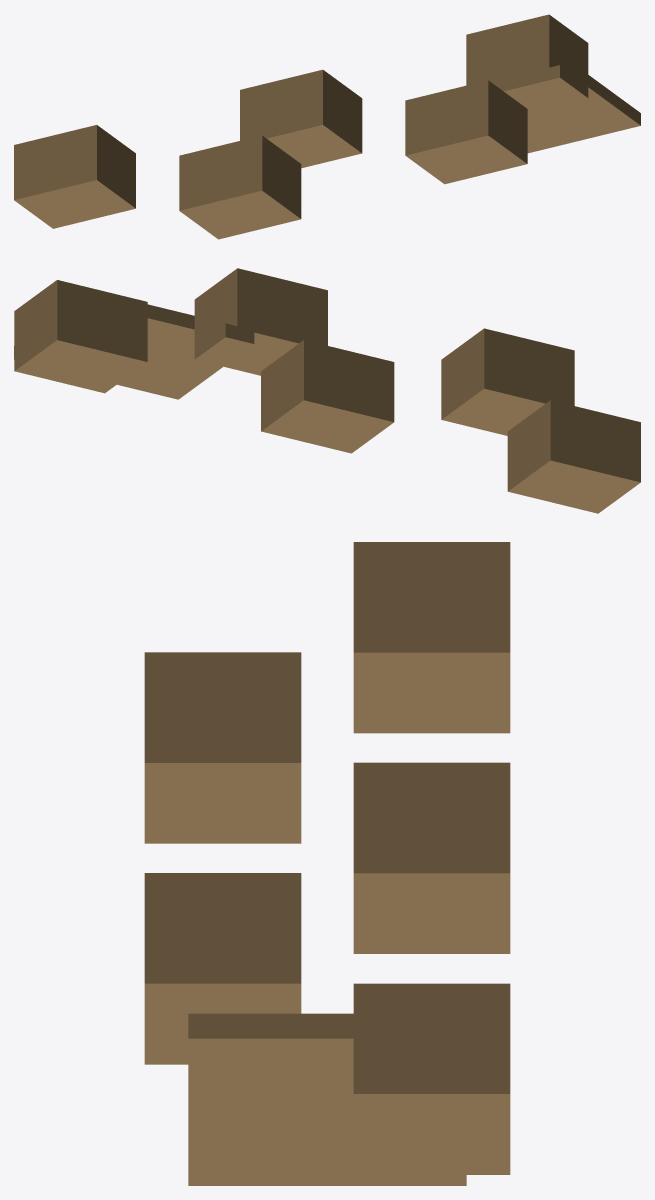
File: SM_DriftwoodCamp_Alpha.gltf
The picture shows the model from 3 angles, top to bottom: view 1: azimuth 30°, elevation 25°; view 2: azimuth 150°, elevation 25°; view 3: azimuth 270°, elevation 25°; orthographic projection. The views are drawn at different scales.
Visible parts, largest first — view 1: SM_DriftwoodCamp_Alpha; view 2: SM_DriftwoodCamp_Alpha; view 3: SM_DriftwoodCamp_Alpha.
Part boxes in pixels (x1,y1,x2,y2): SM_DriftwoodCamp_Alpha: (14,14,640,239); SM_DriftwoodCamp_Alpha: (14,268,640,513); SM_DriftwoodCamp_Alpha: (144,542,510,1185).
Bounding box in the file's own units: 7.25 × 0.7 × 2.1.
